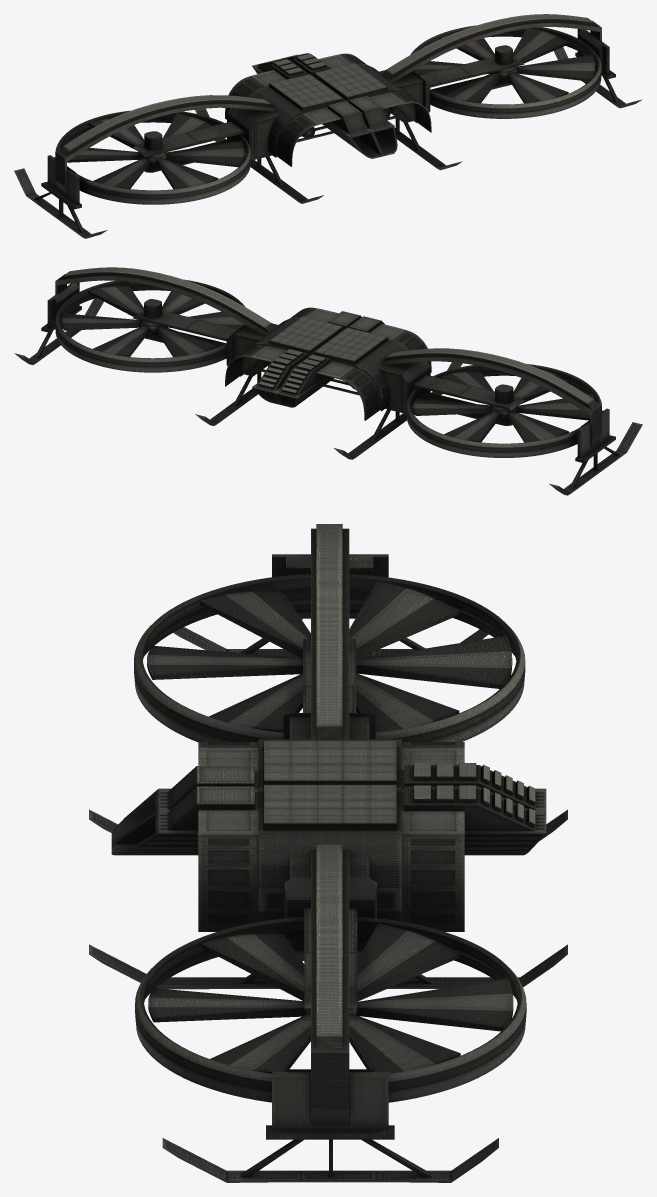
File: drone_design.glb
3 renders of one model, top to bottom at view 1: azimuth 30°, elevation 25°; view 2: azimuth 150°, elevation 25°; view 3: azimuth 270°, elevation 25°, orthographic. The views are drawn at different scales.
Parts seen in each view (by area): view 1: helicopter_box; view 2: helicopter_box; view 3: helicopter_box.
Part boxes in pixels (x1,y1,x2,y2): helicopter_box: (14, 14, 641, 238); helicopter_box: (14, 267, 642, 495); helicopter_box: (89, 524, 567, 1182).
Size of what is drawn, in the model's own units: 0.772 by 0.1219 by 0.2938.
Materials: 1 (1 with a texture image).
